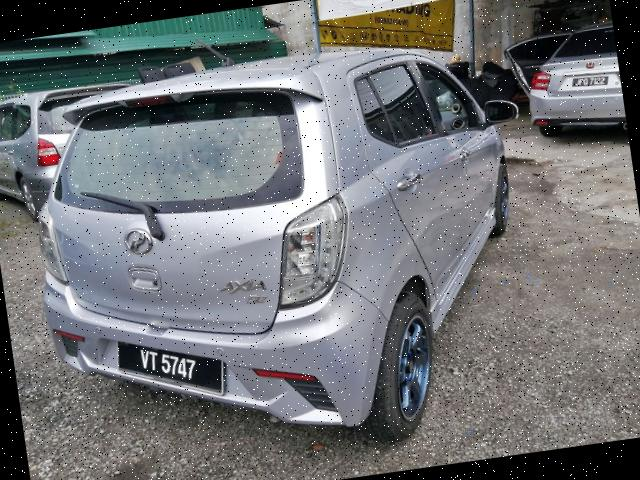License_Plate: (118, 328, 216, 397), (570, 73, 612, 98)
